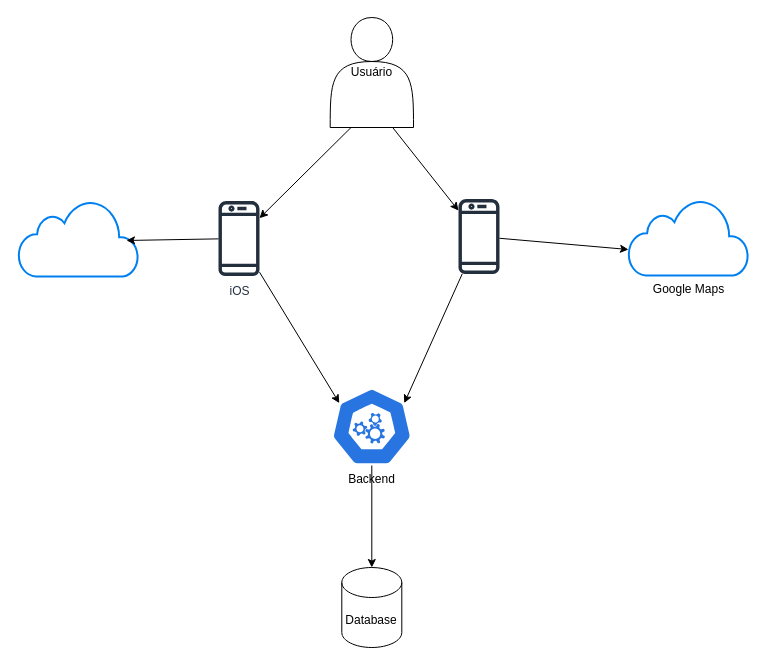
Image size: 766x665. Some labels were removed from this diagram. The shapes that lost their labels are listed below. From the top down, each one's centre as x and y in pixels, then its label:
At (78,238): "Apple Maps".
At (478,236): "Android".
